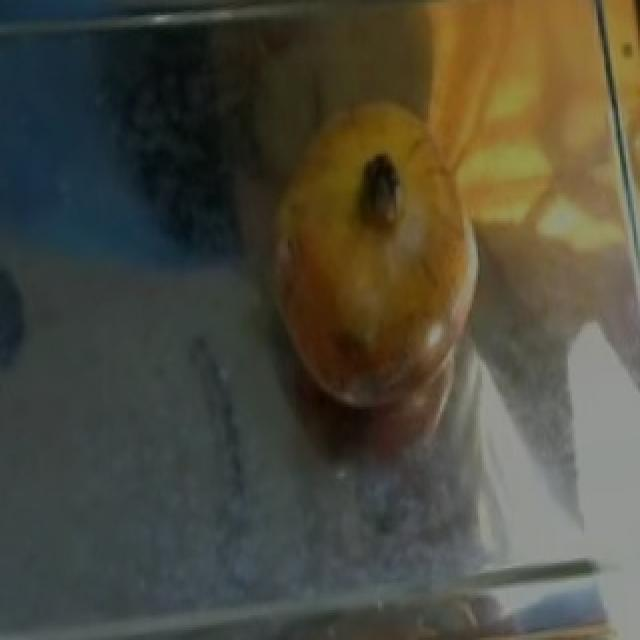fruit: (252, 166, 506, 437)
